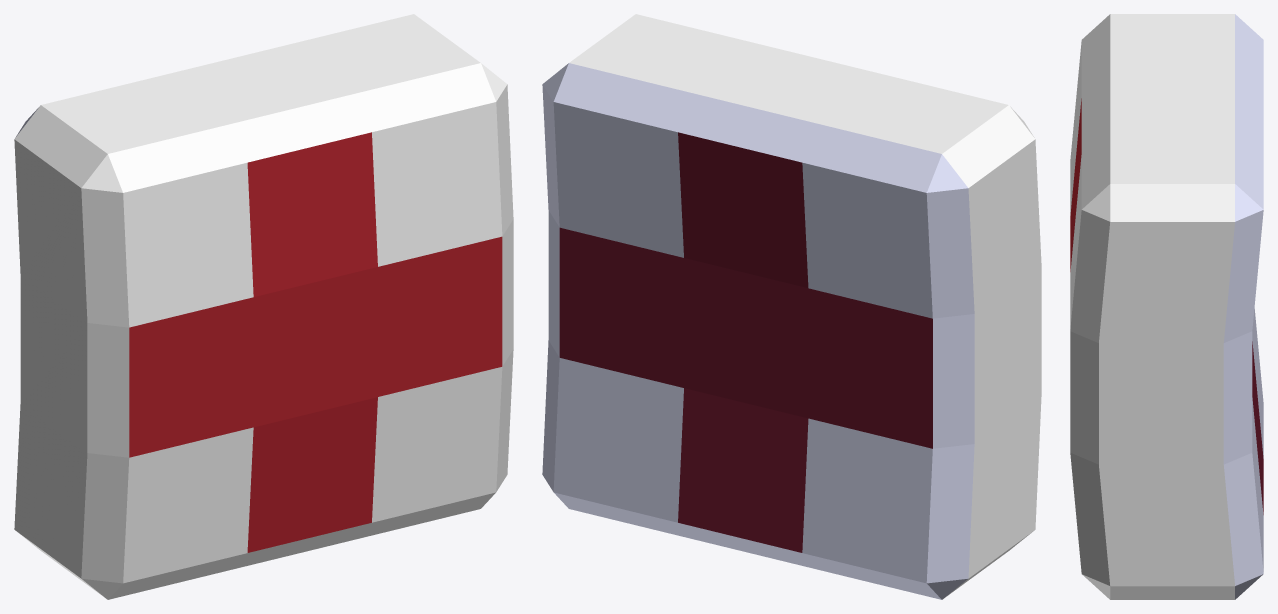
File: health.glb
The picture shows the model from 3 angles, left to right: view 1: azimuth 30°, elevation 25°; view 2: azimuth 150°, elevation 25°; view 3: azimuth 270°, elevation 25°; orthographic projection. The views are drawn at different scales.
Visible parts, largest first — view 1: Cube.002; view 2: Cube.002; view 3: Cube.002.
Part boxes in pixels (bbox=[...]): Cube.002: bbox=[14, 14, 513, 599]; Cube.002: bbox=[542, 14, 1041, 599]; Cube.002: bbox=[1070, 14, 1263, 599].
Bounding box in the file's own units: 1.7 × 1.7 × 0.7166.
1 material, 1 textured.
